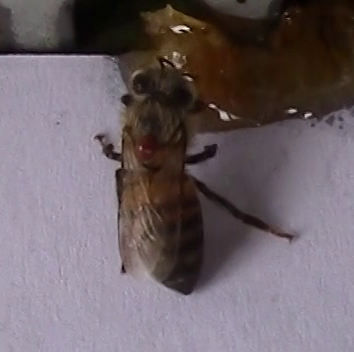Varroa destructor: (132, 132, 158, 161)
